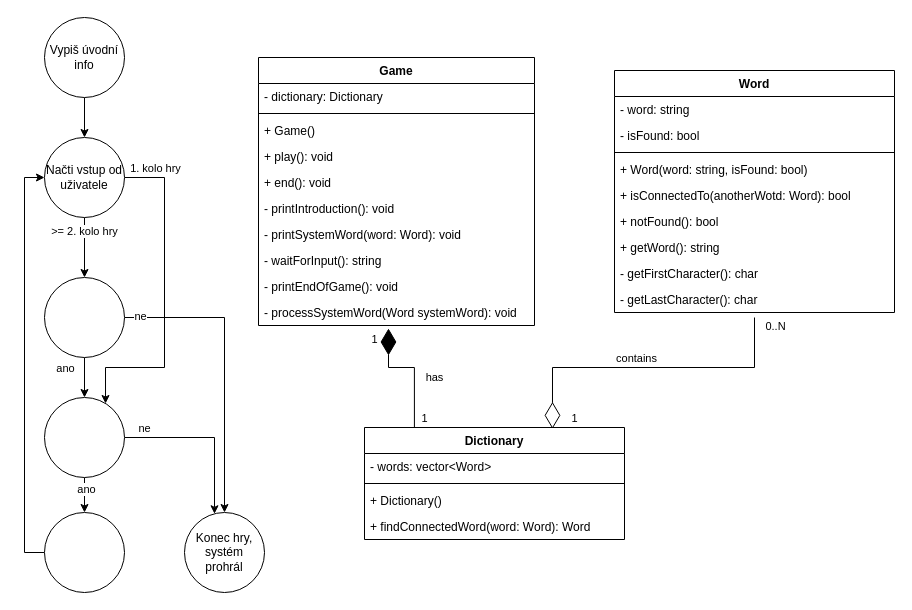
The diagram is 912 pixels wide and 610 high, and some of its shapes have lost their labels. Each missing label, with the centre of its shape:
"Kontroluj, zda vstup navazuje na systém" goes at (x=84, y=317).
"Najdi slovo ve slovníku" goes at (x=84, y=437).
"Vypiš slovo" goes at (x=84, y=552).
